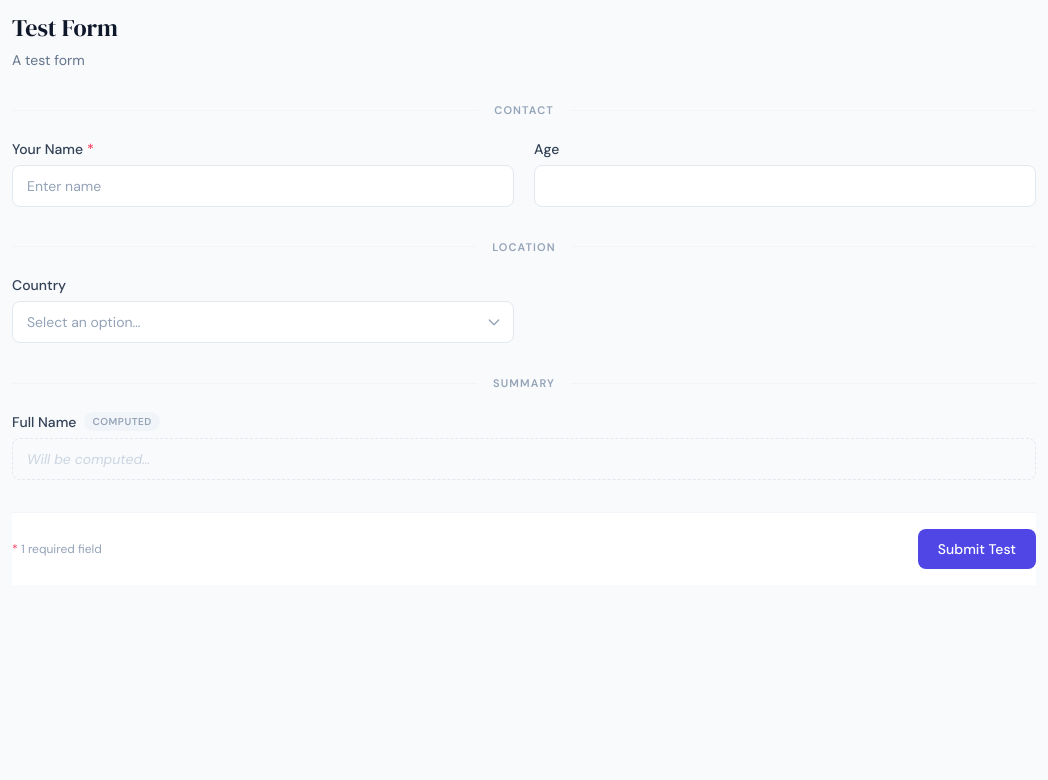
Test: FormRenderer — validation › clears a field error when the user starts typing
# Trigger error
Click the button "Submit Test" at {"x": 977, "y": 548}, box x1=918 y1=528 x2=1036 y2=568
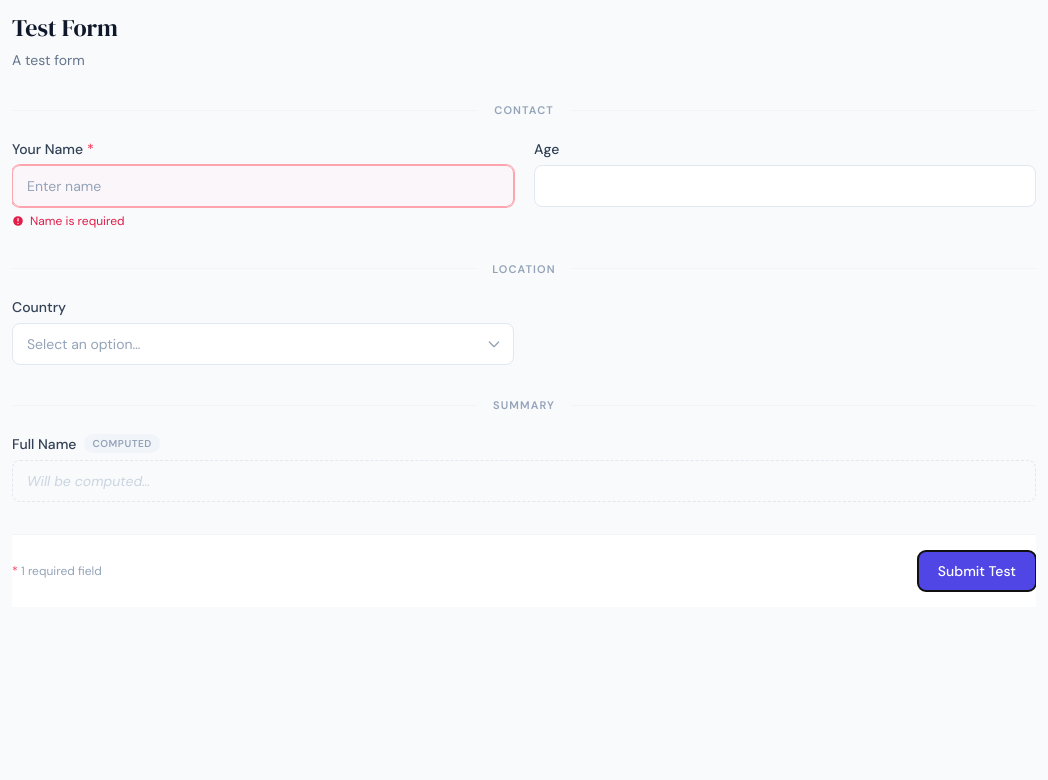
Result: the text "Name is required" is shown at x1=12 y1=212 x2=124 y2=228
# Start typing → error clears
Type "A" into the field labelled "Your Name*" at {"x": 263, "y": 186}, box x1=12 y1=164 x2=514 y2=206
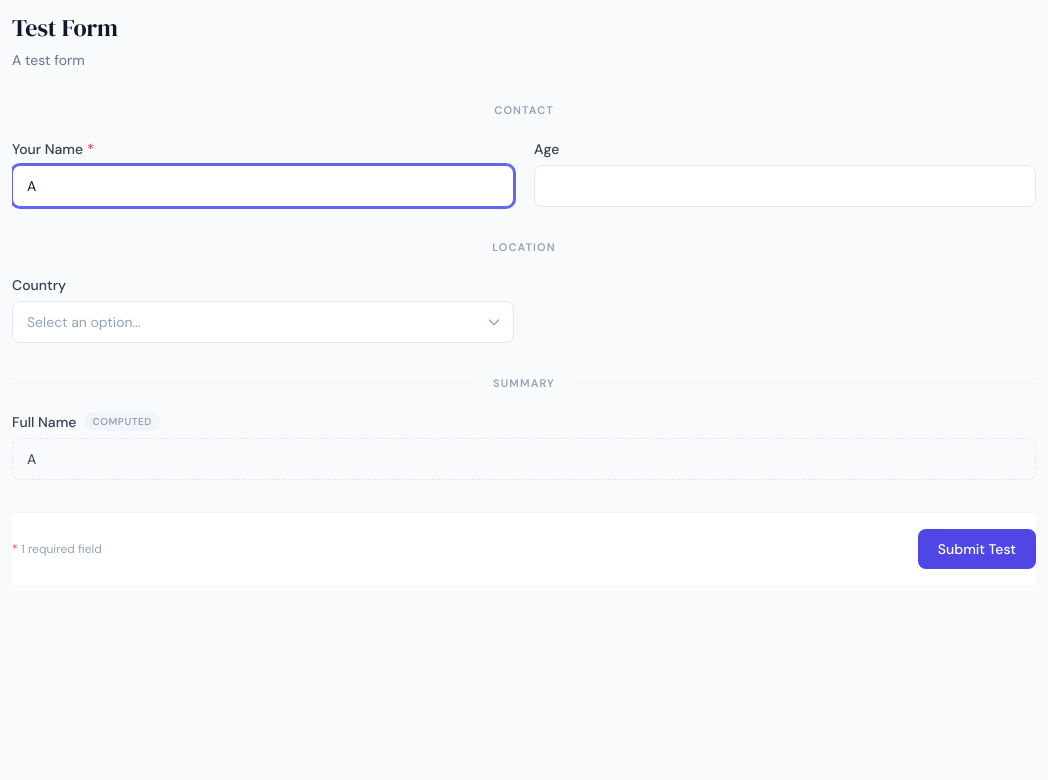
Result: the text "Name is required" is gone
